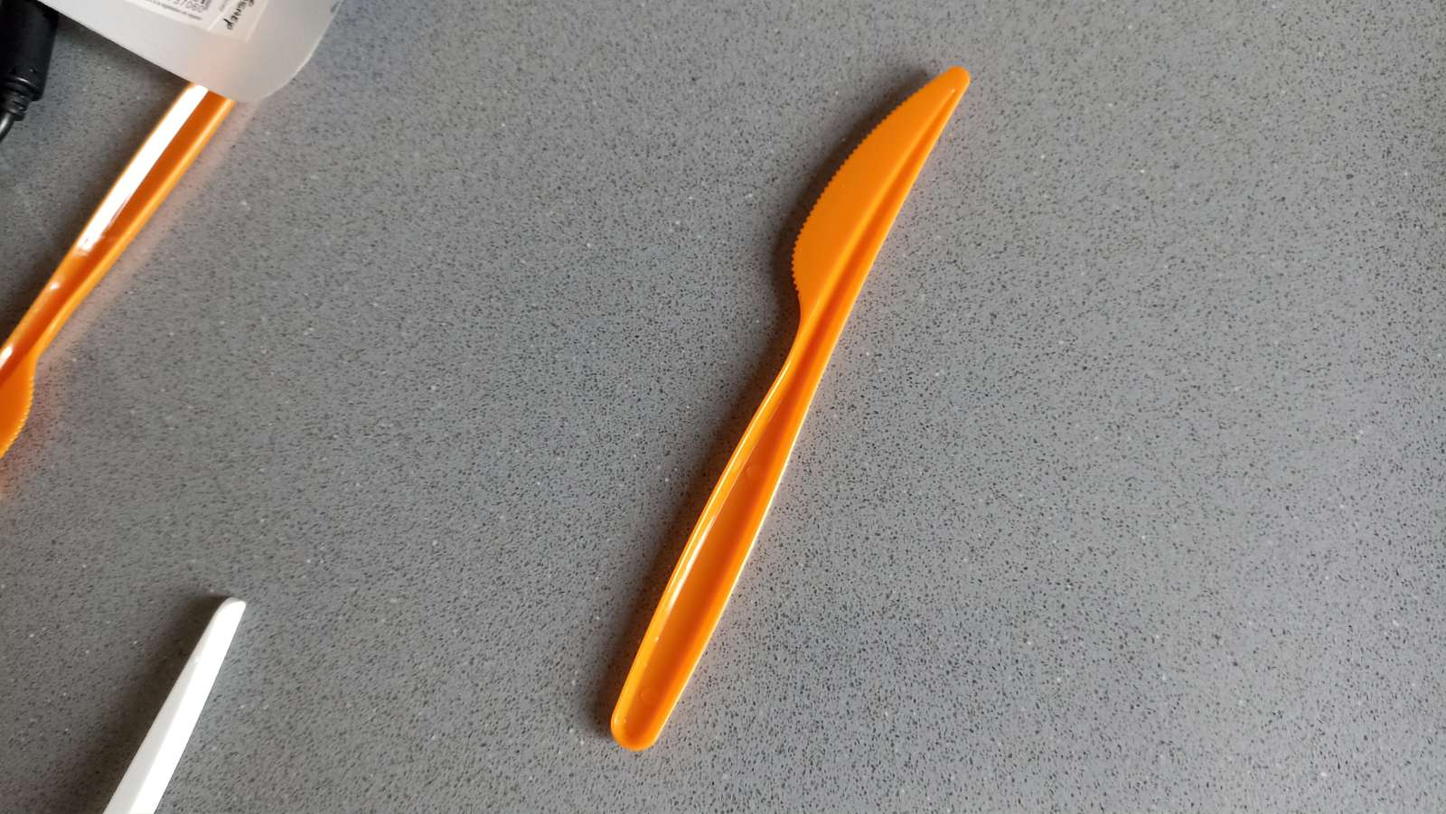plastic: (607, 56, 976, 758)
